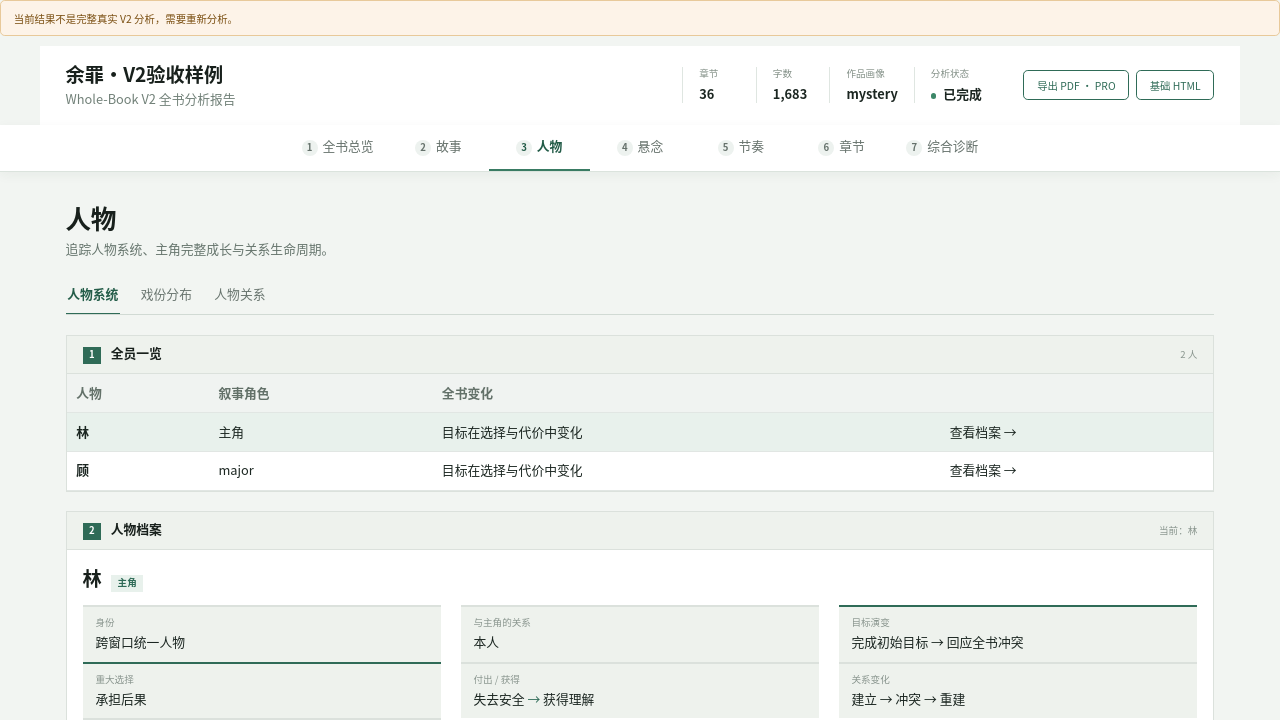
Test: 历程图本身 › 戏份分布把每个人画成一条带子并列出跨度
This screenshot has width=1280, height=720.
Click the button "戏份分布" at [166, 294], box [139,275,194,314]
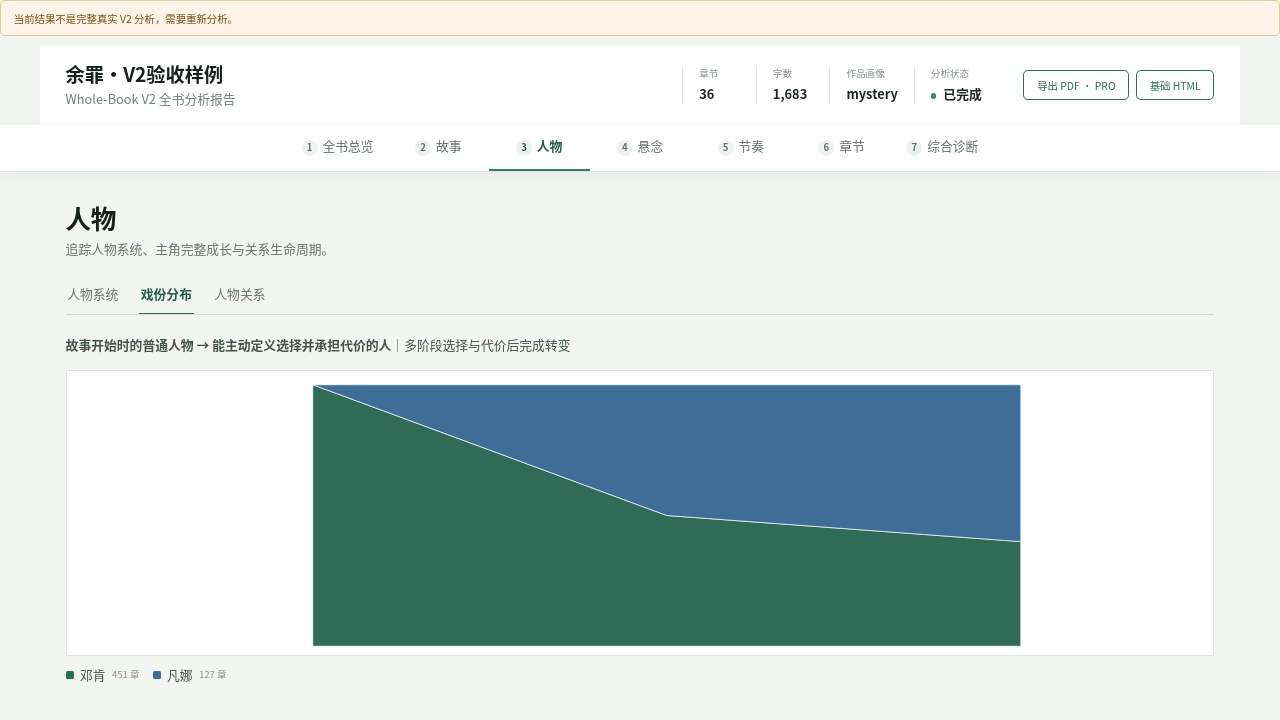
expect the list item "邓肯" is shown: met, box [80,665,106,684]
expect the text "451 章" is shown: met, box [112,668,140,682]
